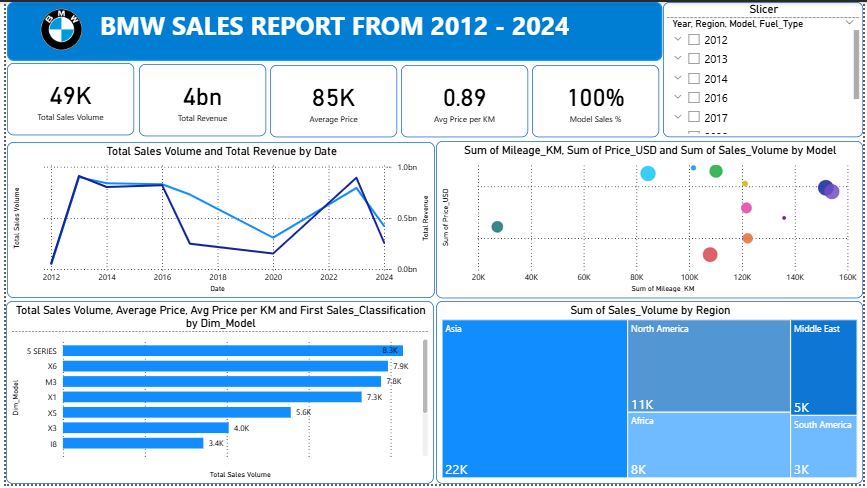

Layout of this report page (visuals, bound fields, positions):
{"tool":"powerbi","page":{"name":"Page 1","canvas":[1280,720],"ordinal":0},"visuals":[{"type":"card","fields":{"Values":["BMW sales data (2010-2024) (1).Total Sales Volume"]},"box":[1.5,91.1,189.7,107.6],"z":0},{"type":"card","fields":{"Values":["BMW sales data (2010-2024) (1).Total Revenue"]},"box":[198.7,92.6,189.7,107.6],"z":1000},{"type":"card","fields":{"Values":["BMW sales data (2010-2024) (1).Average Price"]},"box":[394.4,94.1,189.7,107.6],"z":2000},{"type":"card","fields":{"Values":["BMW sales data (2010-2024) (1).Avg Price per KM"]},"box":[590,94.1,189.7,107.6],"z":3000},{"type":"card","fields":{"Values":["BMW sales data (2010-2024) (1).Model Sales %"]},"box":[785.7,94.1,189.7,107.6],"z":4000},{"type":"lineChart","fields":{"Category":["Date.Date","Date.Year"],"Y":["BMW sales data (2010-2024) (1).Total Sales Volume"],"Y2":["BMW sales data (2010-2024) (1).Total Revenue"]},"box":[1.5,209.1,639.3,233],"z":5000},{"type":"clusteredBarChart","fields":{"Category":["Dim_Model.Dim_Model"],"Y":["BMW sales data (2010-2024) (1).Total Sales Volume"]},"box":[0,446.8,639.3,273],"z":6000},{"type":"textbox","box":[1.3,0,979,88],"z":7000},{"type":"scatterChart","fields":{"X":["Sum(BMW sales data (2010-2024) (1).Mileage_KM)"],"Y":["Sum(BMW sales data (2010-2024) (1).Price_USD)"],"Size":["Sum(BMW sales data (2010-2024) (1).Sales_Volume)"],"Series":["BMW sales data (2010-2024) (1).Model"]},"box":[642.1,207.6,637.8,234.5],"z":8000},{"type":"slicer","title":"Slicer","fields":{"Values":["BMW sales data (2010-2024) (1).Year","BMW sales data (2010-2024) (1).Region","BMW sales data (2010-2024) (1).Model","BMW sales data (2010-2024) (1).Fuel_Type"]},"box":[981.4,0,298.8,201.7],"z":9000},{"type":"treemap","fields":{"Group":["BMW sales data (2010-2024) (1).Region"],"Values":["Sum(BMW sales data (2010-2024) (1).Sales_Volume)"]},"box":[642,447,638,273],"z":10000},{"type":"image","box":[43.3,1.5,79.2,79.2],"z":11000}]}

Visuals, with their boxes in screenshot pixels (x1, y1, x2, y2), scaled from the page's 1280x720 canvas onto the 867x488 screenshot:
card - BMW sales data (2010-2024) (1).Total Sales Volume: (x1=1, y1=62, x2=130, y2=135)
card - BMW sales data (2010-2024) (1).Total Revenue: (x1=135, y1=63, x2=263, y2=136)
card - BMW sales data (2010-2024) (1).Average Price: (x1=267, y1=64, x2=396, y2=137)
card - BMW sales data (2010-2024) (1).Avg Price per KM: (x1=400, y1=64, x2=528, y2=137)
card - BMW sales data (2010-2024) (1).Model Sales %: (x1=532, y1=64, x2=661, y2=137)
lineChart - Date.Date x Date.Year: (x1=1, y1=142, x2=434, y2=300)
clusteredBarChart - Dim_Model.Dim_Model x BMW sales data (2010-2024) (1).Total Sales Volume: (x1=0, y1=303, x2=433, y2=487)
textbox: (x1=1, y1=0, x2=664, y2=60)
scatterChart - Sum(BMW sales data (2010-2024) (1).Mileage_KM) x Sum(BMW sales data (2010-2024) (1).Price_USD): (x1=435, y1=141, x2=866, y2=300)
"Slicer" slicer: (x1=665, y1=0, x2=866, y2=137)
treemap - BMW sales data (2010-2024) (1).Region x Sum(BMW sales data (2010-2024) (1).Sales_Volume): (x1=435, y1=303, x2=866, y2=487)
image: (x1=29, y1=1, x2=83, y2=55)
